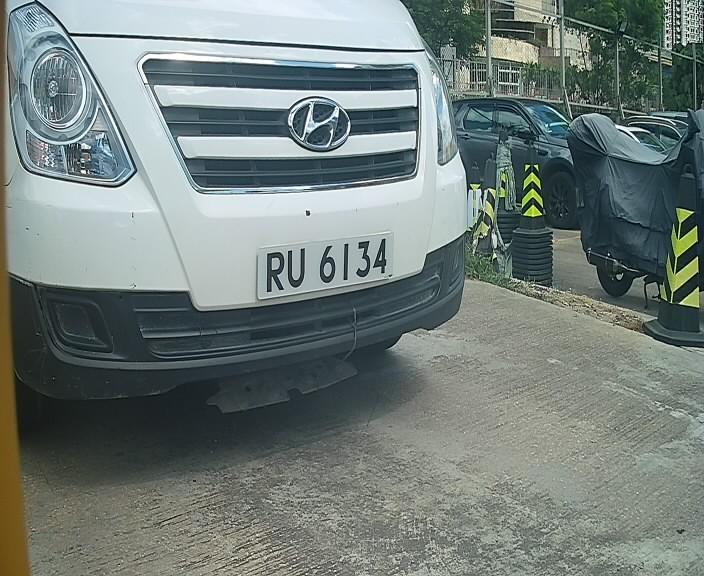License Plate: (243, 219, 406, 301)
